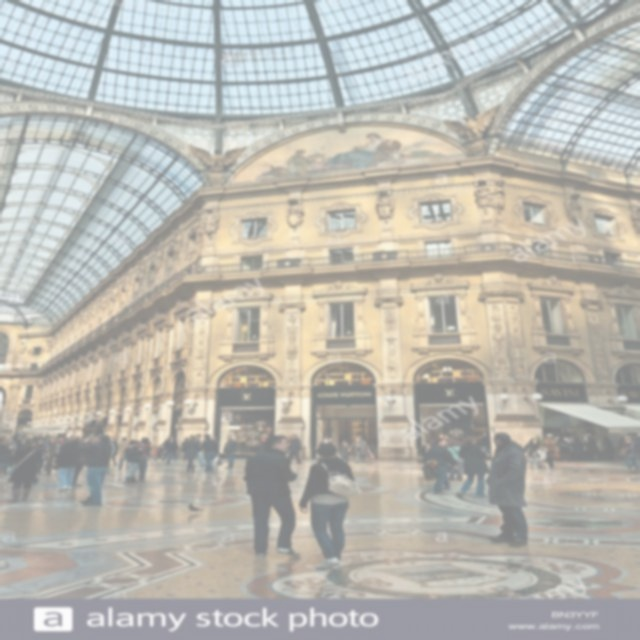pessoa: (253, 128, 428, 182), (296, 439, 364, 572), (241, 433, 301, 558), (479, 432, 535, 550), (78, 433, 114, 508), (5, 439, 44, 504), (454, 436, 488, 500), (424, 438, 460, 496), (53, 434, 88, 492), (121, 438, 148, 484), (195, 434, 221, 473), (444, 438, 466, 482), (178, 434, 202, 474), (134, 440, 153, 482), (347, 436, 372, 464), (42, 433, 58, 476), (622, 436, 640, 474), (158, 436, 180, 466), (222, 433, 240, 469), (33, 438, 50, 476), (614, 432, 640, 456), (191, 433, 208, 468), (206, 435, 224, 468), (538, 438, 557, 469), (286, 433, 304, 465), (523, 438, 541, 469), (582, 434, 600, 462), (554, 435, 572, 463), (420, 438, 438, 466), (546, 433, 599, 442), (0, 434, 31, 449), (117, 436, 131, 469), (361, 434, 378, 460), (288, 434, 302, 465), (48, 434, 68, 454), (602, 436, 616, 462), (138, 436, 152, 462), (478, 431, 492, 456), (65, 432, 97, 442), (2, 438, 18, 457), (569, 436, 585, 454), (111, 436, 120, 466), (340, 440, 351, 463), (434, 432, 458, 442), (180, 437, 190, 460), (31, 432, 48, 442), (318, 435, 334, 445), (528, 451, 542, 459)
